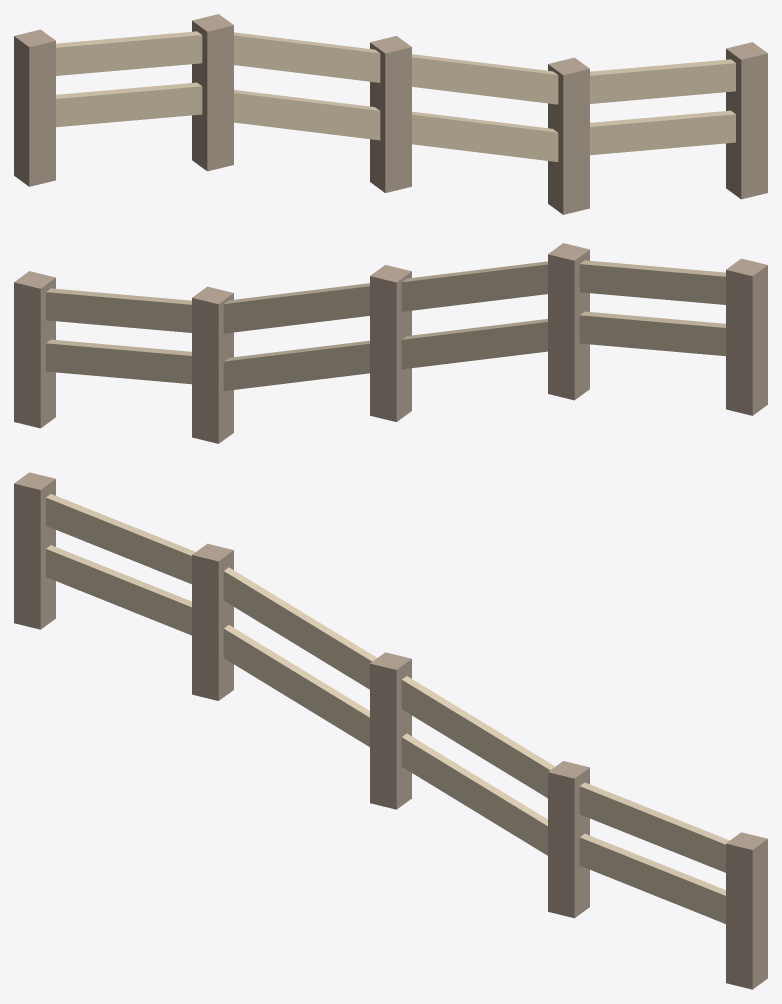
Rendered from Prop_Fence_Hill_Gentle.glb.
3 renders of one model, top to bottom at view 1: azimuth 30°, elevation 25°; view 2: azimuth 150°, elevation 25°; view 3: azimuth 330°, elevation 25°, orthographic.
Visible parts, largest first — view 1: object4, object10, object7, object1, object13, object6, object12, object5, object9, object8, object11, object2 (+1 smaller); view 2: object4, object10, object7, object1, object13, object6, object12, object5, object9, object8, object11, object2 (+1 smaller); view 3: object7, object4, object1, object13, object10, object12, object6, object5, object9, object2, object3, object11 (+1 smaller).
Boxes of the visible parts, <box> form: object4: <box>14,29,55,186</box>; object10: <box>192,14,233,171</box>; object7: <box>726,42,767,199</box>; object1: <box>548,57,589,214</box>; object13: <box>370,36,411,192</box>; object6: <box>412,54,558,104</box>; object12: <box>234,32,380,82</box>; object5: <box>412,111,558,161</box>; object9: <box>234,90,380,140</box>; object8: <box>56,82,202,127</box>; object11: <box>56,31,202,75</box>; object2: <box>590,59,735,103</box>; object4: <box>726,258,767,415</box>; object10: <box>548,243,589,400</box>; object7: <box>14,271,55,428</box>; object1: <box>192,286,233,443</box>; object13: <box>370,265,411,421</box>; object6: <box>223,283,369,333</box>; object12: <box>401,261,547,311</box>; object5: <box>223,340,369,390</box>; object9: <box>401,319,547,369</box>; object8: <box>579,311,725,356</box>; object11: <box>579,260,725,304</box>; object2: <box>46,288,191,332</box>; object7: <box>726,832,767,989</box>; object4: <box>14,472,55,629</box>; object1: <box>548,761,589,918</box>; object13: <box>370,652,411,809</box>; object10: <box>192,543,233,700</box>; object12: <box>223,567,376,689</box>; object6: <box>401,676,555,798</box>; object5: <box>401,733,547,855</box>; object9: <box>223,625,369,746</box>; object2: <box>579,782,729,872</box>; object3: <box>579,834,725,923</box>; object11: <box>46,494,195,584</box>.
Size of the model in its own units: 4.15 by 1.75 by 0.15.
